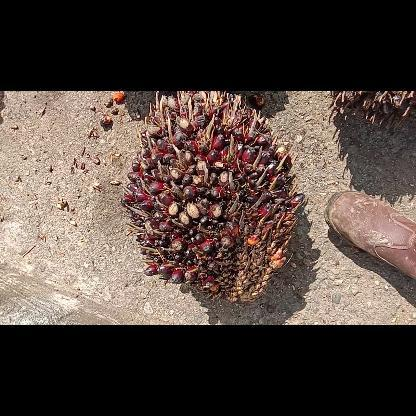TBS mentah: (123, 91, 304, 303)
